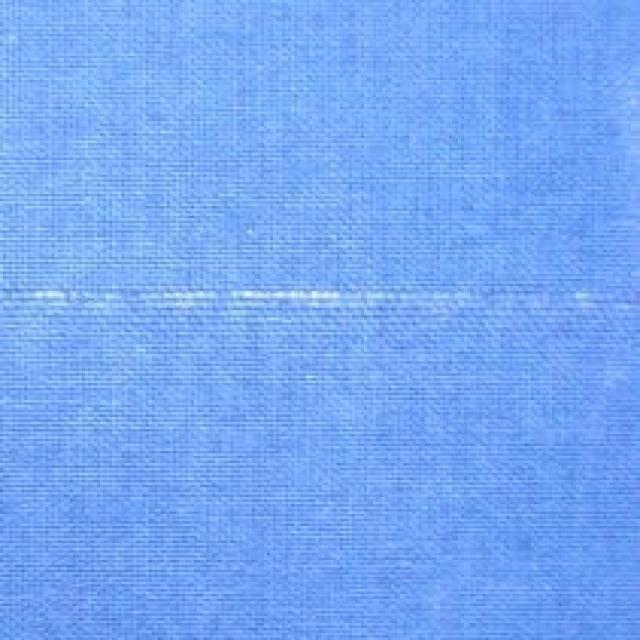stains: (0, 204, 625, 412)
